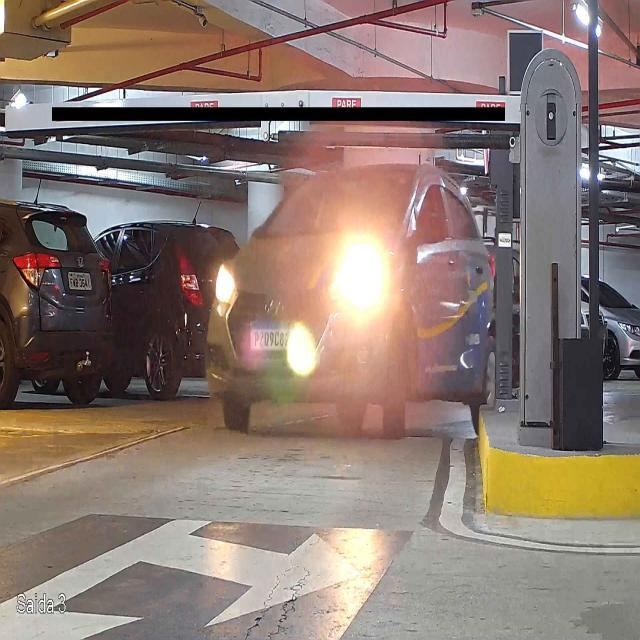mercosul_plate: (249, 318, 297, 352)
